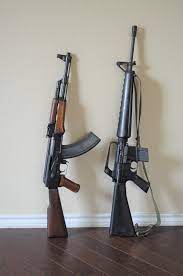gun: (41, 48, 101, 238), (103, 24, 151, 238)
